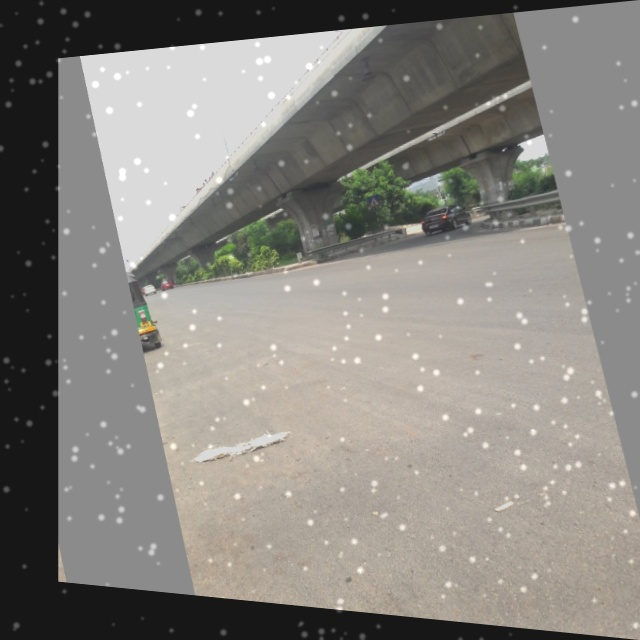Pedestrian_Crossing: (362, 190, 380, 209)
